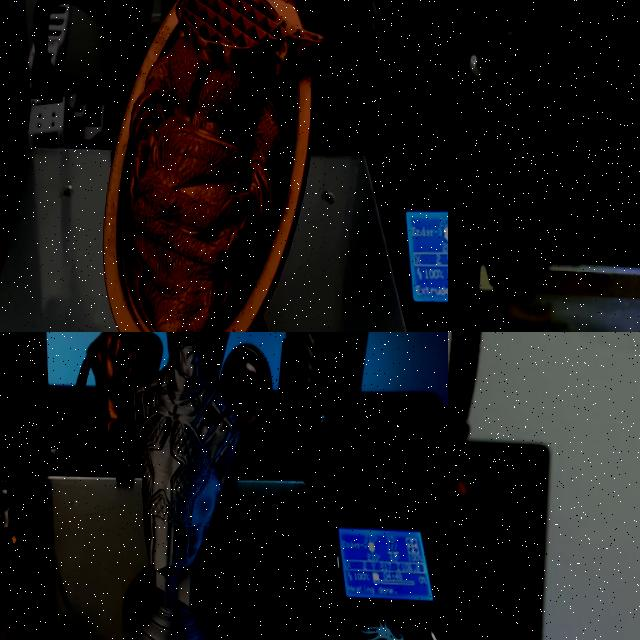spaghetti: (466, 284, 569, 332)
